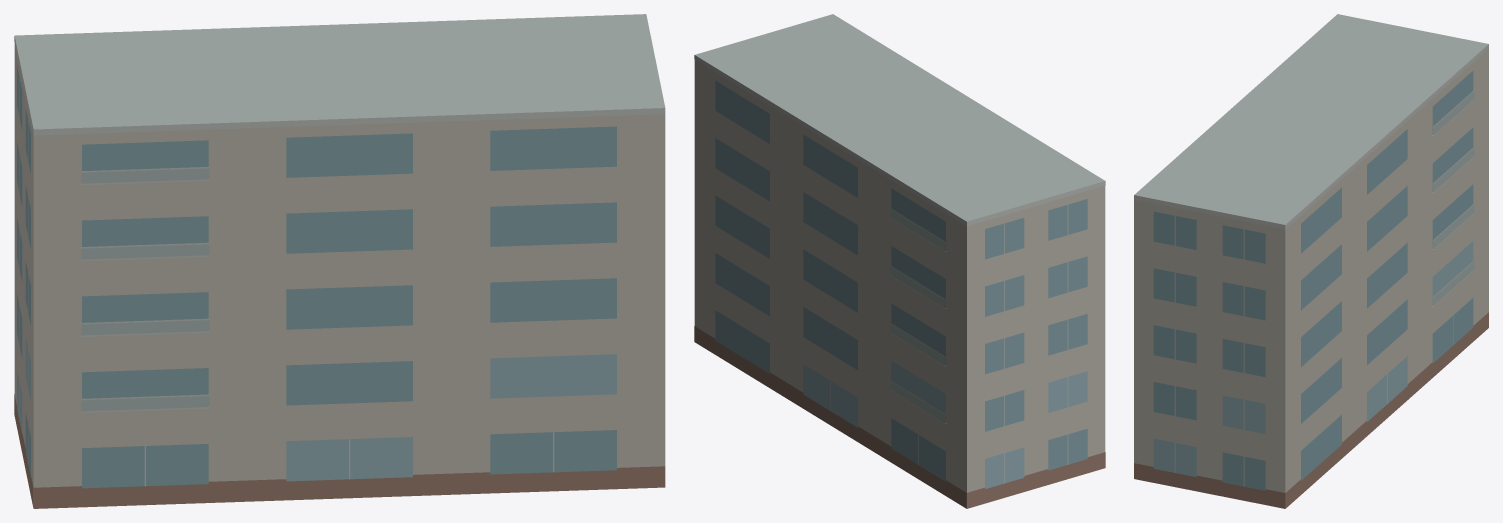
The model's file is survey-upis-33046860.glb.
3 views of the same model, side by side, from view 1: azimuth 30°, elevation 25°; view 2: azimuth 150°, elevation 25°; view 3: azimuth 270°, elevation 25° (orthographic). The views are drawn at different scales.
Visible parts, largest first — view 1: survey-upis-33046860.tmp; view 2: survey-upis-33046860.tmp; view 3: survey-upis-33046860.tmp.
Boxes of the visible parts, x1,y1,x2,y2 form: survey-upis-33046860.tmp: (14,14,665,508); survey-upis-33046860.tmp: (694,14,1105,508); survey-upis-33046860.tmp: (1134,14,1488,508).
Size of the model in its own units: 24.31 by 15.25 by 17.28.
